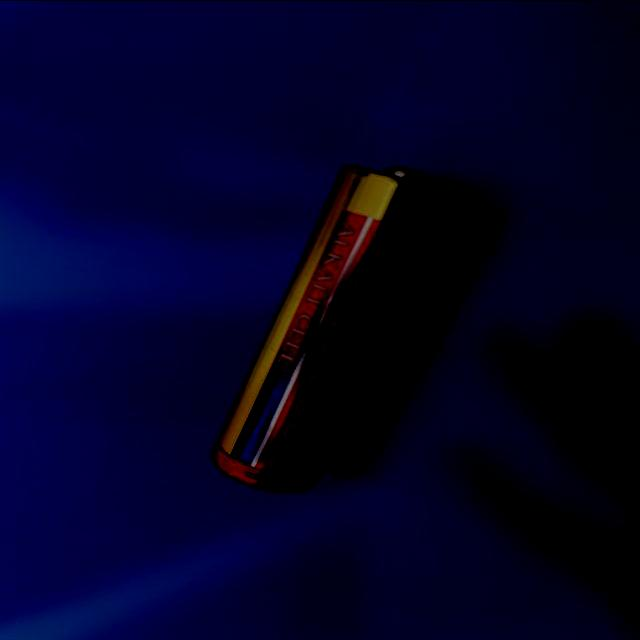AA: (210, 163, 472, 492)
